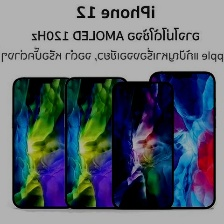phone: (147, 68, 219, 211), (59, 76, 131, 212), (9, 74, 74, 210), (111, 79, 176, 211)
